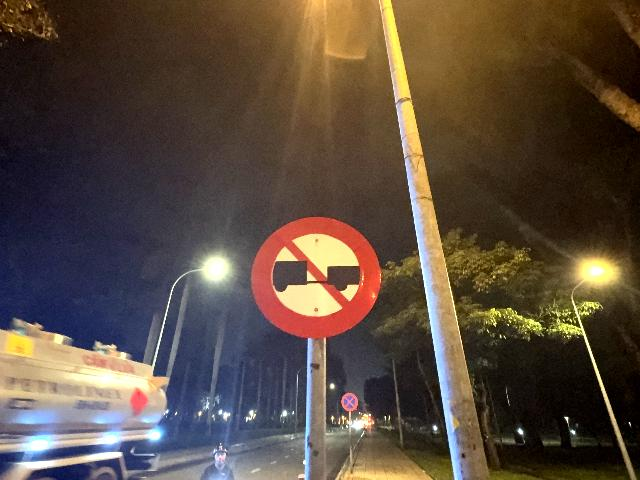cam-xe-somi-romooc: (251, 214, 381, 339)
